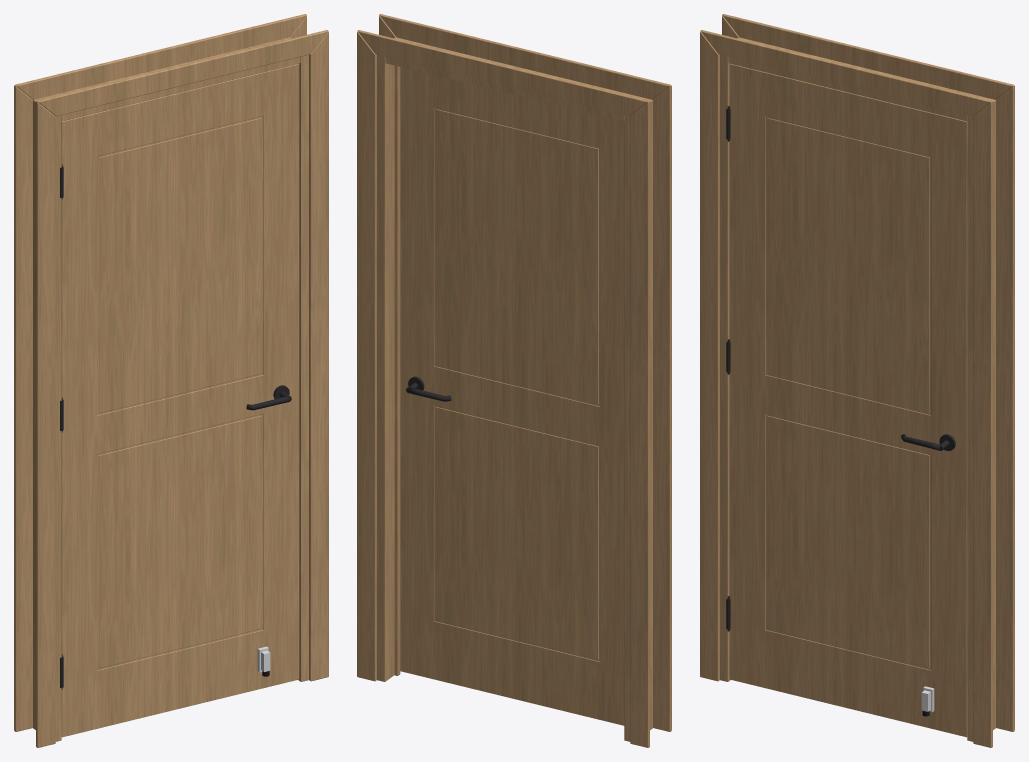
File: door_room_l.glb
The picture shows the model from 3 angles, left to right: view 1: azimuth 30°, elevation 25°; view 2: azimuth 150°, elevation 25°; view 3: azimuth 330°, elevation 25°; orthographic projection.
Visible parts, largest first — view 1: door_room_l_leaf_body, door_room_l_casing, door_room_l_frame, door_room_l_handle; view 2: door_room_l_leaf_body, door_room_l_casing, door_room_l_frame; view 3: door_room_l_leaf_body, door_room_l_casing, door_room_l_frame, door_room_l_handle.
Boxes of the visible parts, <box> form: door_room_l_leaf_body: <box>61,63,299,737</box>; door_room_l_casing: <box>14,14,328,747</box>; door_room_l_frame: <box>33,37,308,741</box>; door_room_l_handle: <box>246,385,291,676</box>; door_room_l_leaf_body: <box>400,67,624,725</box>; door_room_l_casing: <box>357,14,671,747</box>; door_room_l_frame: <box>377,37,652,741</box>; door_room_l_leaf_body: <box>729,63,967,737</box>; door_room_l_casing: <box>700,14,1014,747</box>; door_room_l_frame: <box>720,37,995,741</box>; door_room_l_handle: <box>901,434,955,716</box>.
Size of the model in its own units: 1.02 by 2.16 by 0.1848.
Materials: 4 (1 with a texture image).
